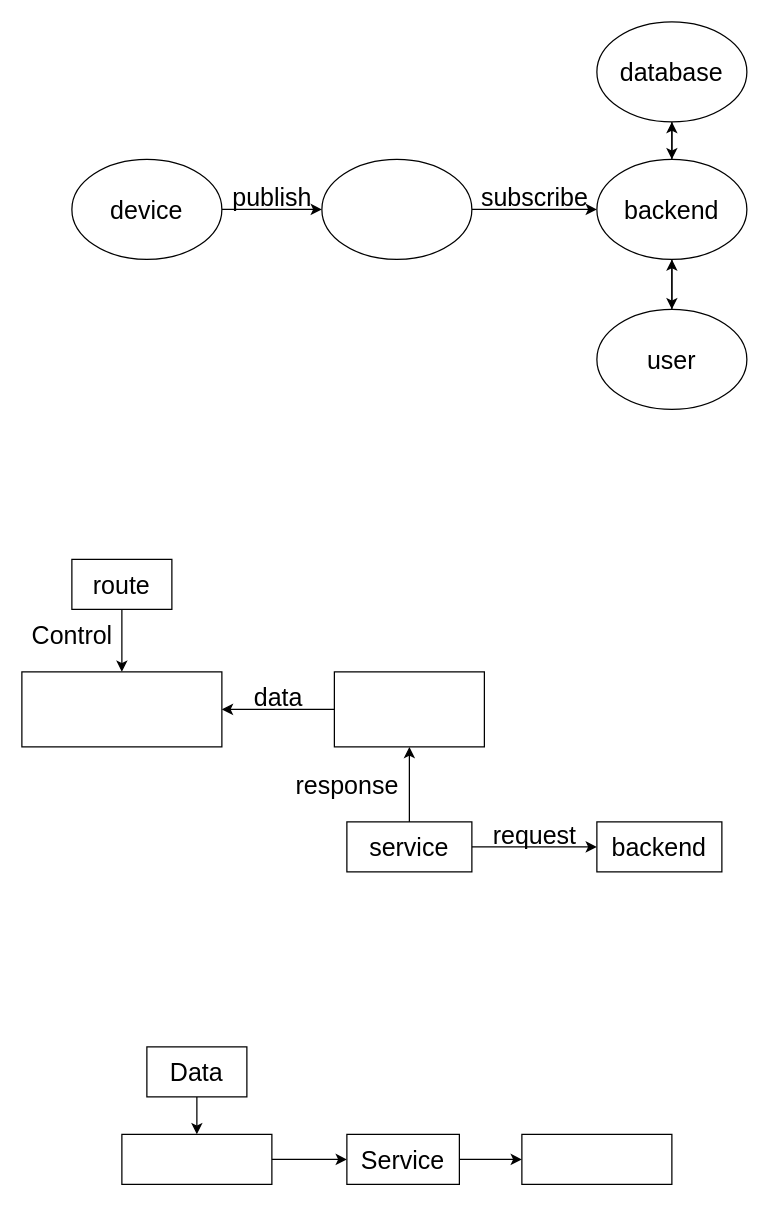
This 769x1206 diagram has some shape labels left out. The centre of each missing label's shape, as x and y in pixels:
component(view): (x=121, y=709)
Controller: (x=596, y=1158)
mqtt broker: (x=396, y=208)
Repository: (x=196, y=1158)
Store(model): (x=408, y=709)
